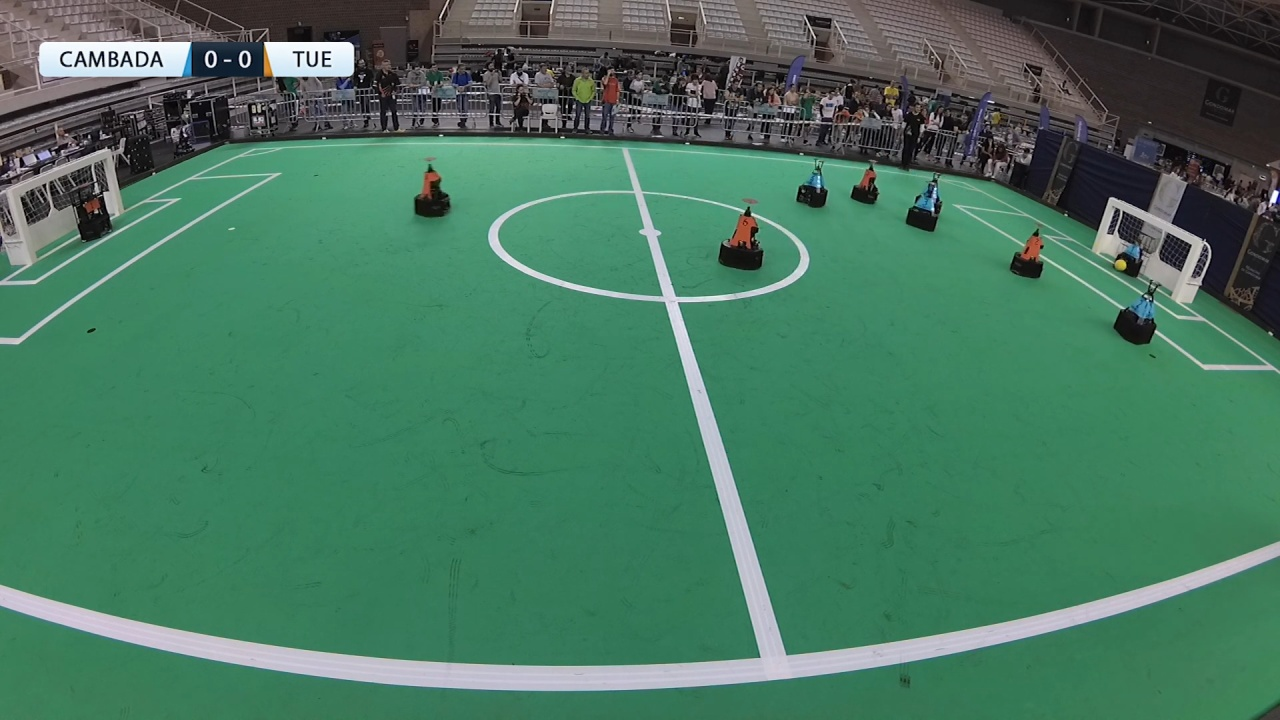BALL: (1111, 256, 1127, 272)
BLUE2: (1115, 280, 1166, 344)
BLUE3: (910, 184, 939, 232)
BLUE5: (797, 157, 826, 207)
B_Goalie: (1116, 232, 1154, 272)
RED2: (1012, 230, 1046, 280)
RED4: (416, 149, 447, 220)
RED6: (717, 196, 767, 272)
R_Goalie: (77, 180, 109, 247)
